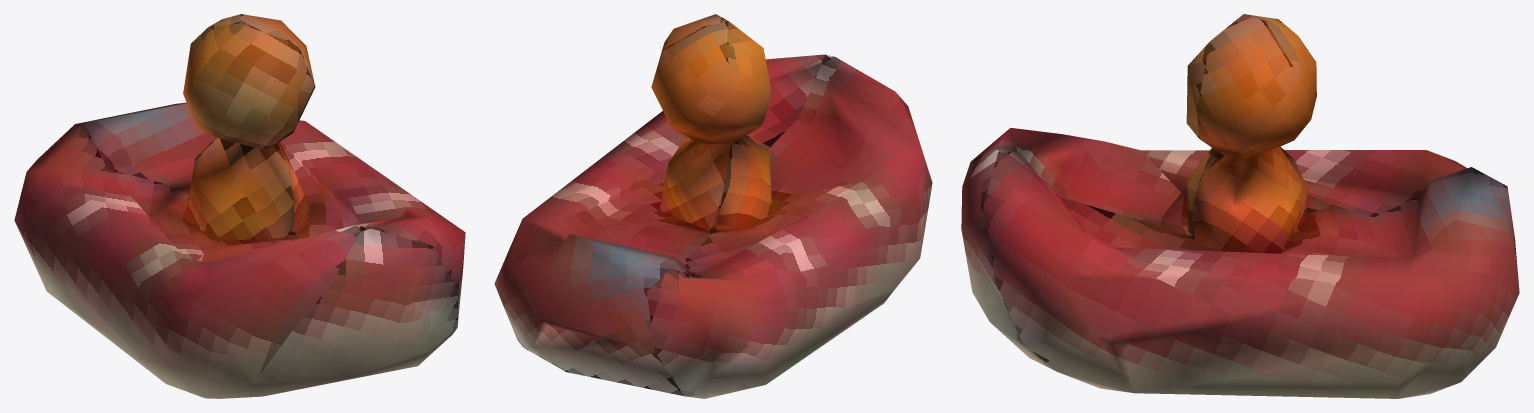
Rendered from COAST_GUARD_BOAT-low.glb.
3 renders of one model, left to right at view 1: azimuth 30°, elevation 25°; view 2: azimuth 150°, elevation 25°; view 3: azimuth 270°, elevation 25°, orthographic. The views are drawn at different scales.
Visible parts, largest first — view 1: COAST_GUARD_BOAT; view 2: COAST_GUARD_BOAT; view 3: COAST_GUARD_BOAT.
Part boxes in pixels (x1,y1,x2,y2): COAST_GUARD_BOAT: (14,14,465,398); COAST_GUARD_BOAT: (494,14,932,398); COAST_GUARD_BOAT: (961,14,1519,398).
Bounding box in the file's own units: 0.0754 × 0.075 × 0.1153.
Materials: 1 (1 with a texture image).
